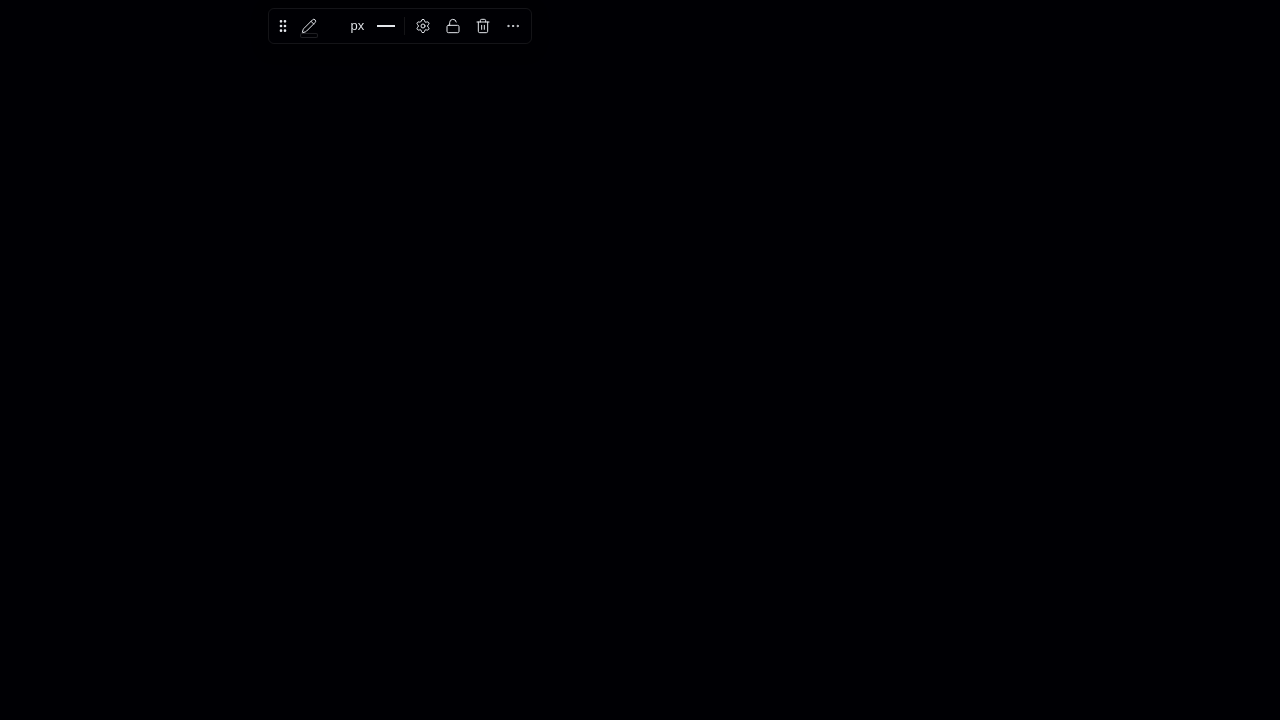
position settings › [10.7.24] should put a short’s target below the entry and its stop above
Click the button named "Settings": [423, 26] box top-left (409, 12), bottom-right (437, 40)
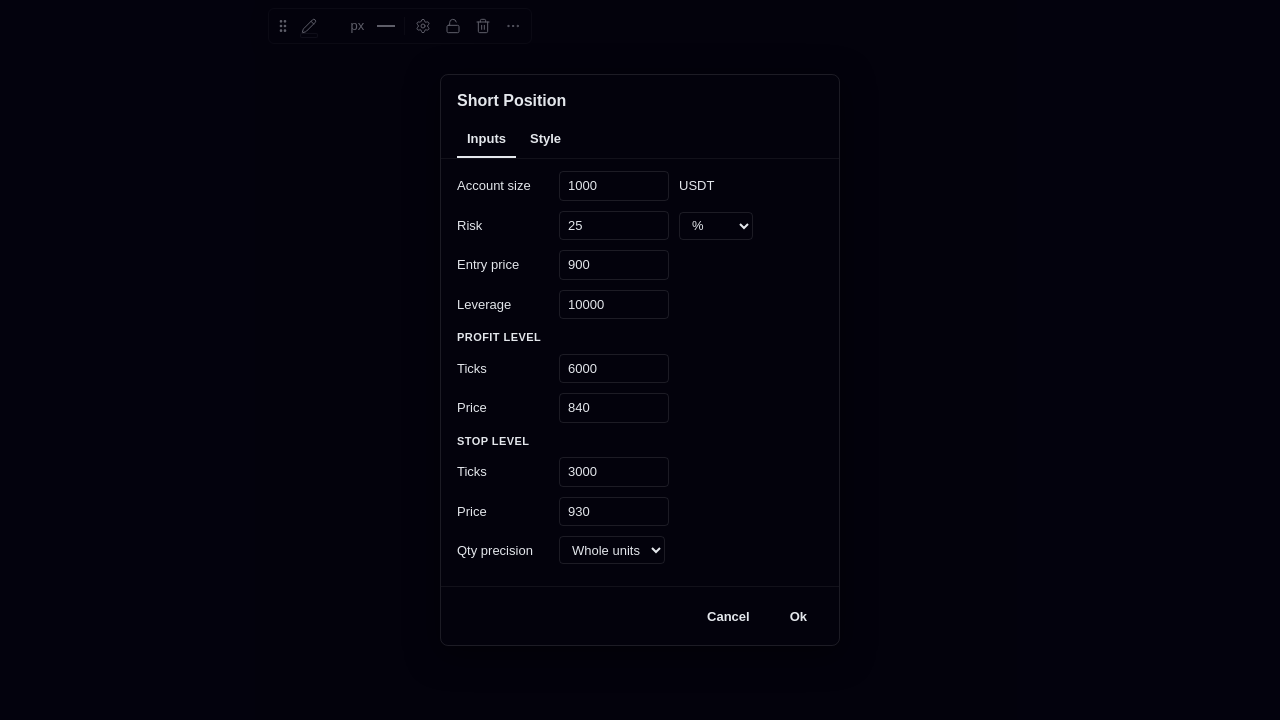
Expected: the field named "Profit level price" holds "840", top-left (559, 393), bottom-right (669, 423)
Expected: the field named "Stop level price" holds "930", top-left (559, 497), bottom-right (669, 526)
